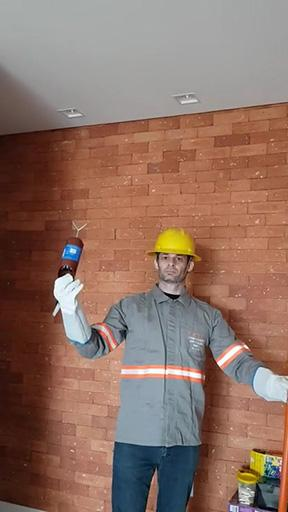Detector_Tensao_Contato: (57, 220, 89, 281)
